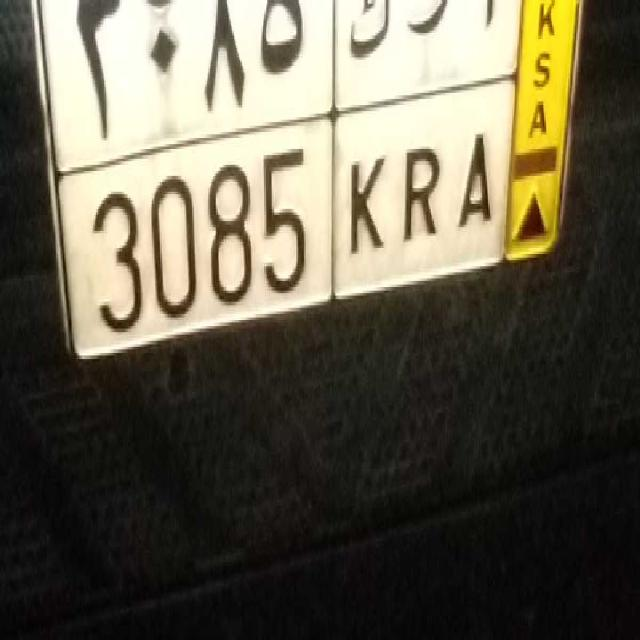license_plate: (93, 112, 511, 350)
